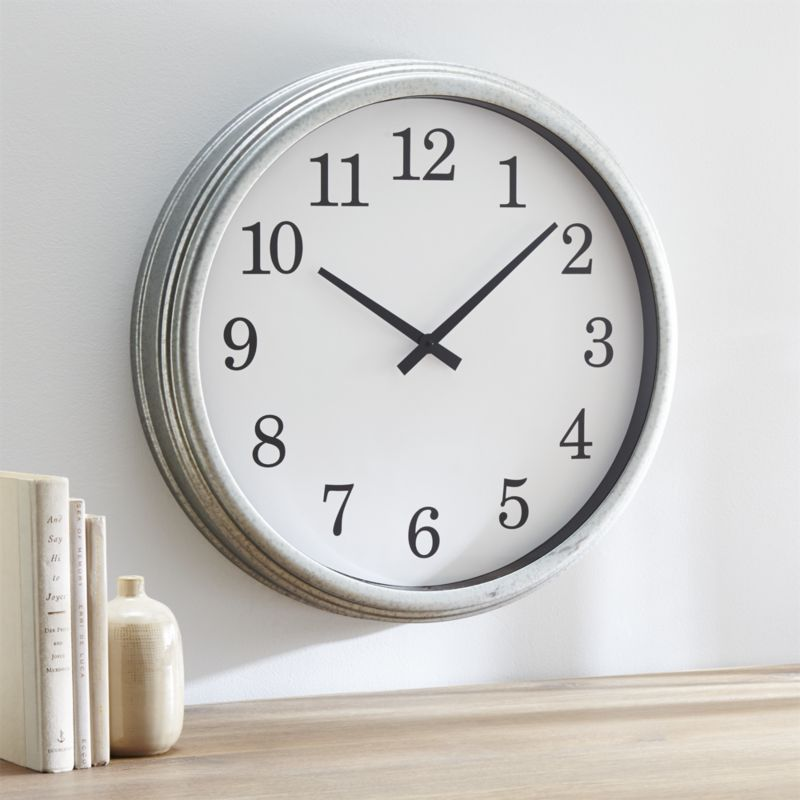clock: (140, 58, 678, 621)
